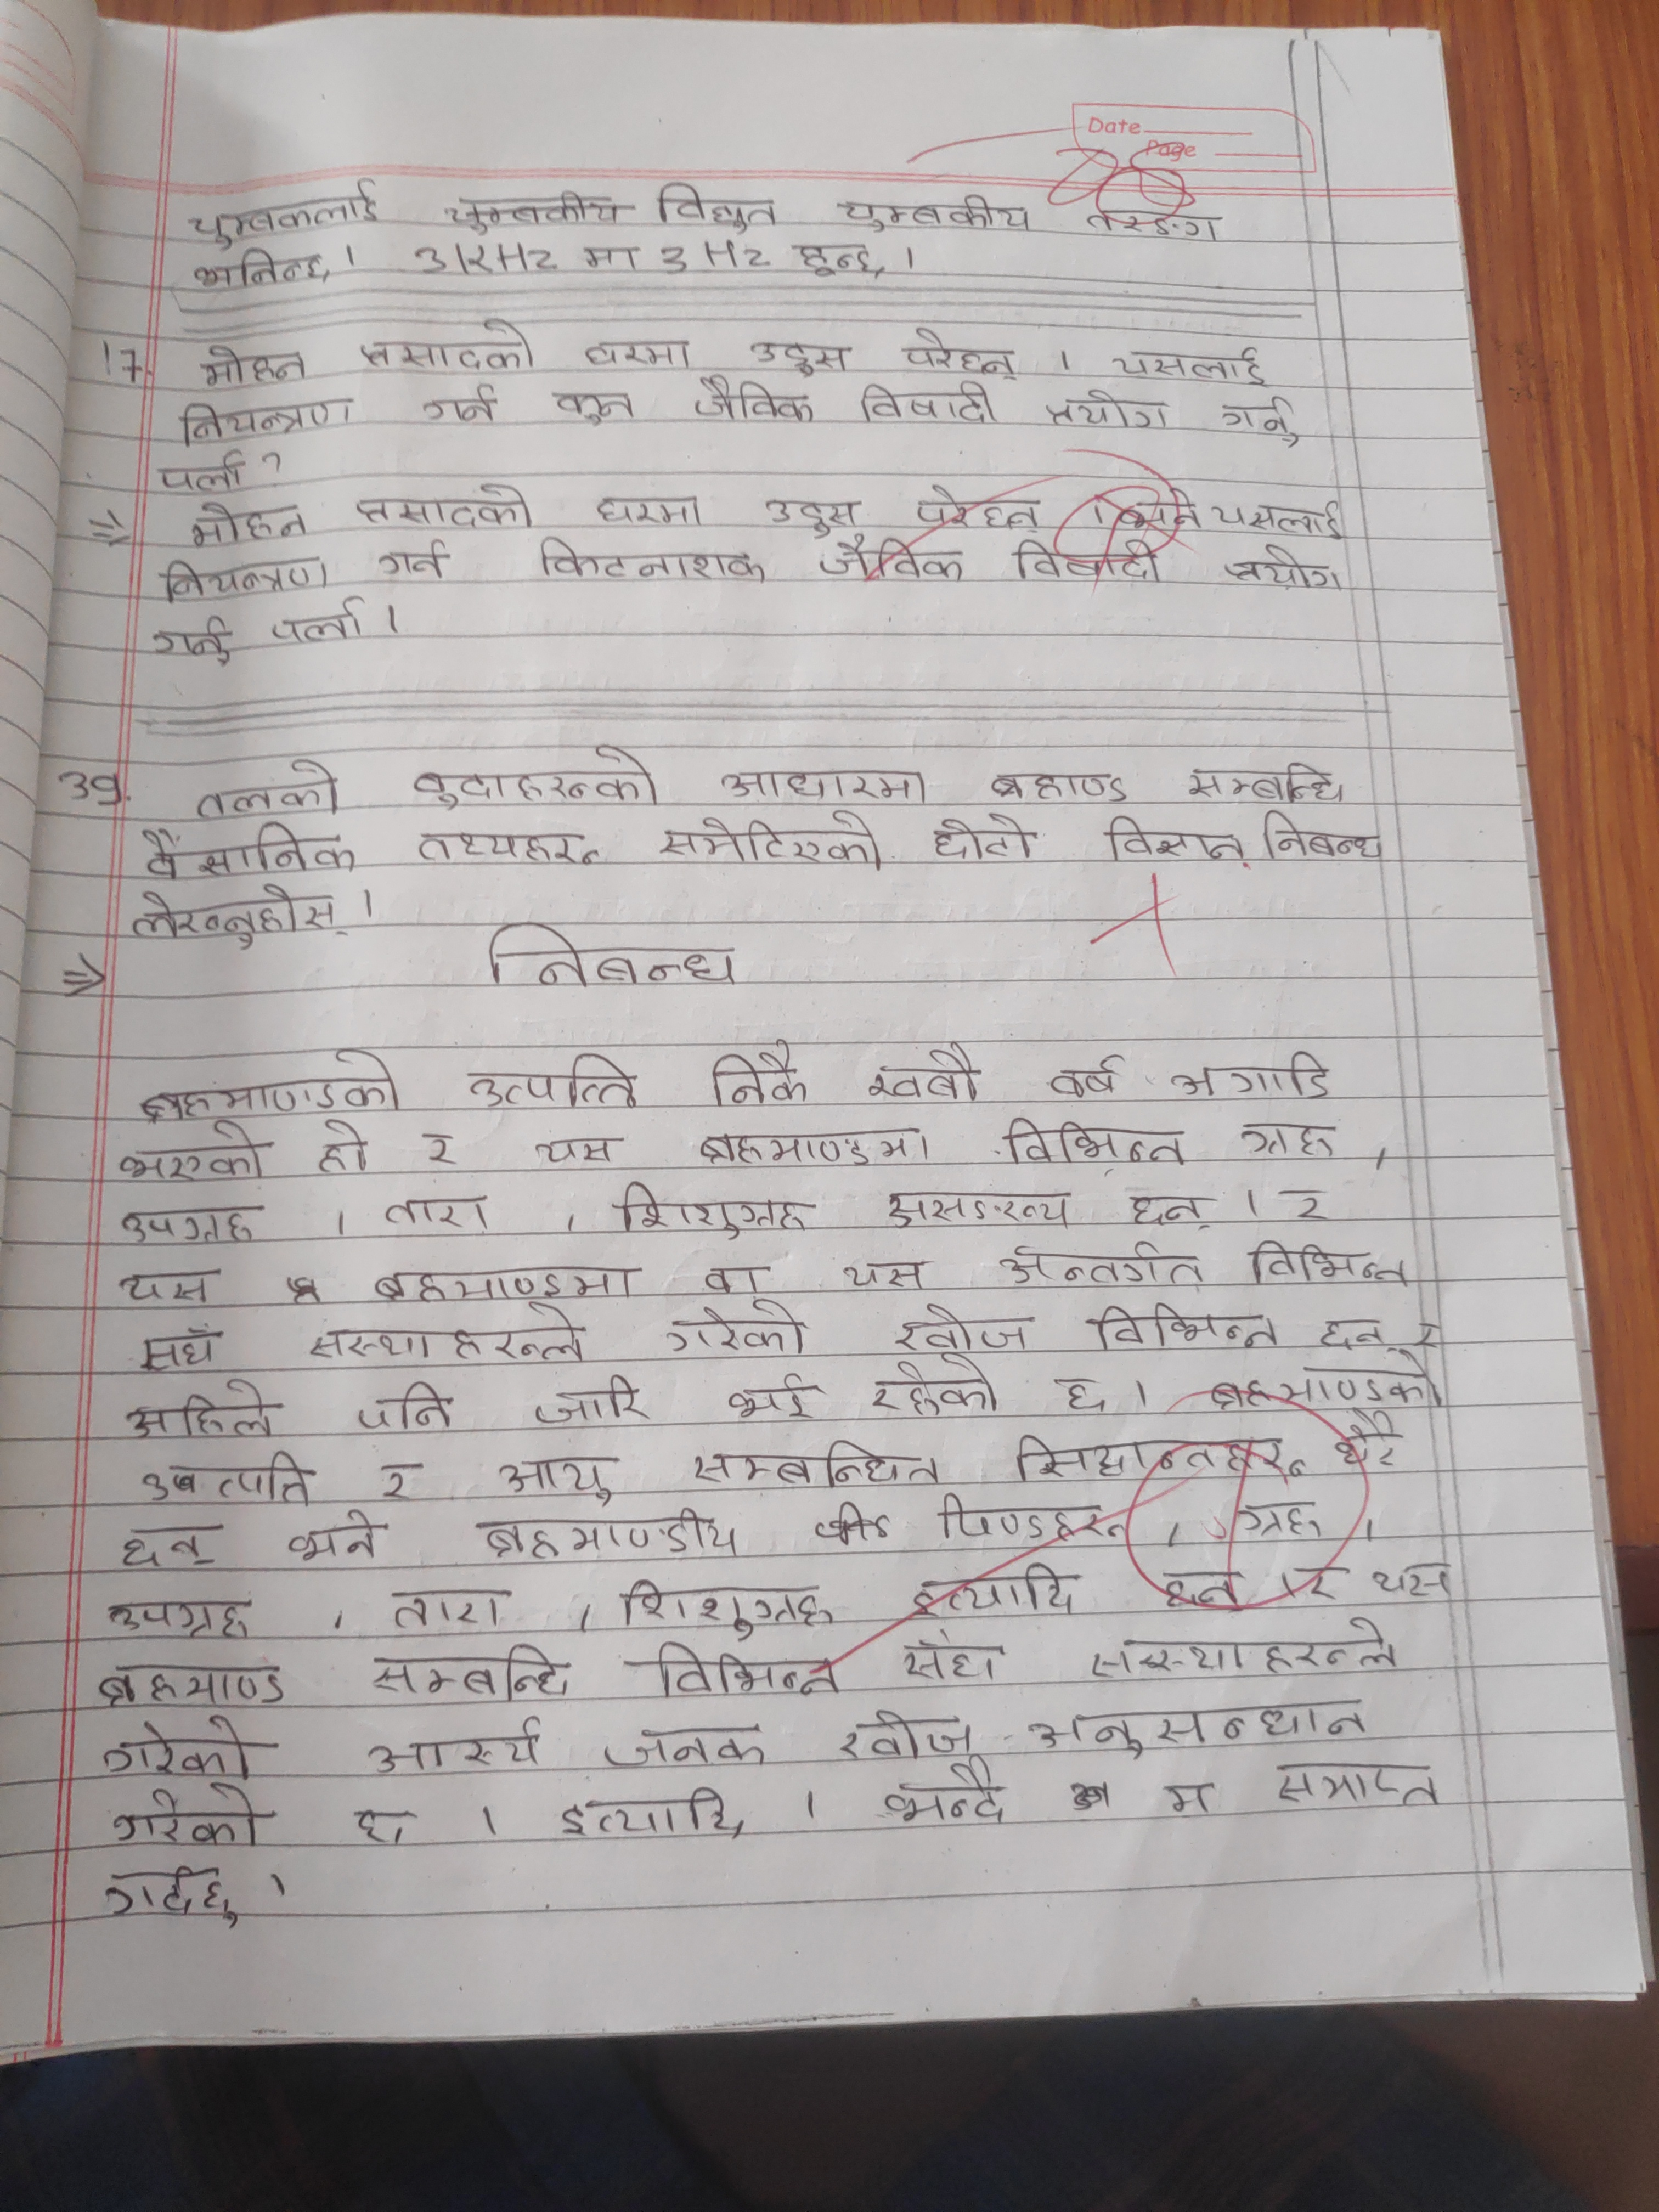text: (1023, 1693, 1375, 1754), (1086, 1616, 1406, 1683), (134, 1045, 404, 1122), (479, 918, 746, 991), (410, 744, 664, 813), (303, 1306, 591, 1366), (1011, 1433, 1305, 1489), (610, 1573, 831, 1641), (467, 1508, 744, 1562), (653, 812, 892, 869), (366, 1639, 579, 1703), (685, 1442, 941, 1494), (934, 1486, 1131, 1554), (127, 890, 359, 948), (613, 1176, 819, 1238), (1199, 1367, 1457, 1416), (138, 820, 362, 876), (181, 183, 380, 246), (638, 1639, 847, 1698), (535, 531, 767, 583), (1093, 1296, 1284, 1359), (460, 1050, 647, 1115), (132, 1449, 321, 1512), (558, 1785, 748, 1844), (103, 1716, 263, 1785), (362, 1712, 544, 1773), (999, 1111, 1190, 1169), (995, 1240, 1211, 1291), (369, 1259, 640, 1299), (105, 1784, 272, 1848), (94, 1860, 253, 1928), (694, 1125, 936, 1169), (343, 477, 535, 531), (94, 1656, 289, 1709), (122, 1379, 282, 1442), (908, 1562, 1082, 1620), (174, 392, 364, 444), (192, 756, 342, 822), (1105, 331, 1272, 390), (1166, 1047, 1344, 1103), (1267, 1757, 1450, 1811), (718, 765, 936, 810), (596, 1721, 772, 1777), (877, 1184, 1075, 1233), (354, 319, 537, 371), (1178, 756, 1354, 810), (406, 820, 606, 867), (864, 1357, 1009, 1421), (838, 188, 1035, 235), (120, 1127, 274, 1186), (1244, 1235, 1412, 1289), (1098, 815, 1253, 871), (659, 1303, 812, 1359), (1009, 533, 1166, 587), (702, 1038, 814, 1113), (864, 1040, 990, 1106), (828, 1705, 976, 1761), (882, 1764, 1006, 1831), (894, 1301, 1032, 1359), (899, 324, 1025, 385), (101, 1595, 260, 1642), (694, 368, 819, 425), (160, 556, 333, 597), (652, 179, 784, 233), (380, 1578, 512, 1632), (495, 1454, 619, 1512), (1256, 808, 1384, 864), (817, 540, 967, 587), (1213, 495, 1351, 545), (850, 381, 1004, 427), (911, 484, 1047, 535), (181, 500, 315, 550), (1080, 206, 1234, 249), (108, 1204, 261, 1247), (988, 766, 1134, 812), (528, 1376, 653, 1428), (924, 812, 1037, 869), (282, 1508, 390, 1568), (192, 249, 331, 294), (1044, 392, 1175, 439), (1089, 482, 1206, 535), (1222, 542, 1344, 590), (113, 1521, 230, 1571), (897, 1629, 1009, 1681), (265, 594, 373, 646), (357, 1374, 451, 1433), (1147, 1566, 1251, 1618), (584, 488, 704, 531), (197, 347, 314, 390), (1234, 1116, 1342, 1163), (723, 1369, 817, 1423), (146, 617, 242, 669), (382, 1186, 488, 1233), (1122, 1183, 1211, 1238), (756, 489, 861, 536), (1211, 395, 1304, 448), (739, 334, 854, 376), (113, 1266, 228, 1308), (781, 239, 890, 282), (132, 1324, 220, 1378), (580, 333, 697, 373), (1333, 1409, 1406, 1472), (148, 451, 249, 495), (1042, 1055, 1134, 1103), (1237, 1498, 1333, 1541), (840, 1254, 932, 1296), (420, 381, 500, 428), (1314, 1308, 1392, 1355), (310, 1116, 368, 1179), (551, 385, 638, 425), (375, 540, 460, 578), (528, 1134, 620, 1169), (1373, 1559, 1453, 1599), (349, 1801, 413, 1848), (699, 1258, 770, 1299), (1277, 1183, 1338, 1230), (1157, 1771, 1218, 1818), (1046, 1372, 1114, 1413), (369, 1456, 425, 1505), (418, 1123, 467, 1176), (1295, 1561, 1344, 1609), (1410, 1318, 1453, 1359)
